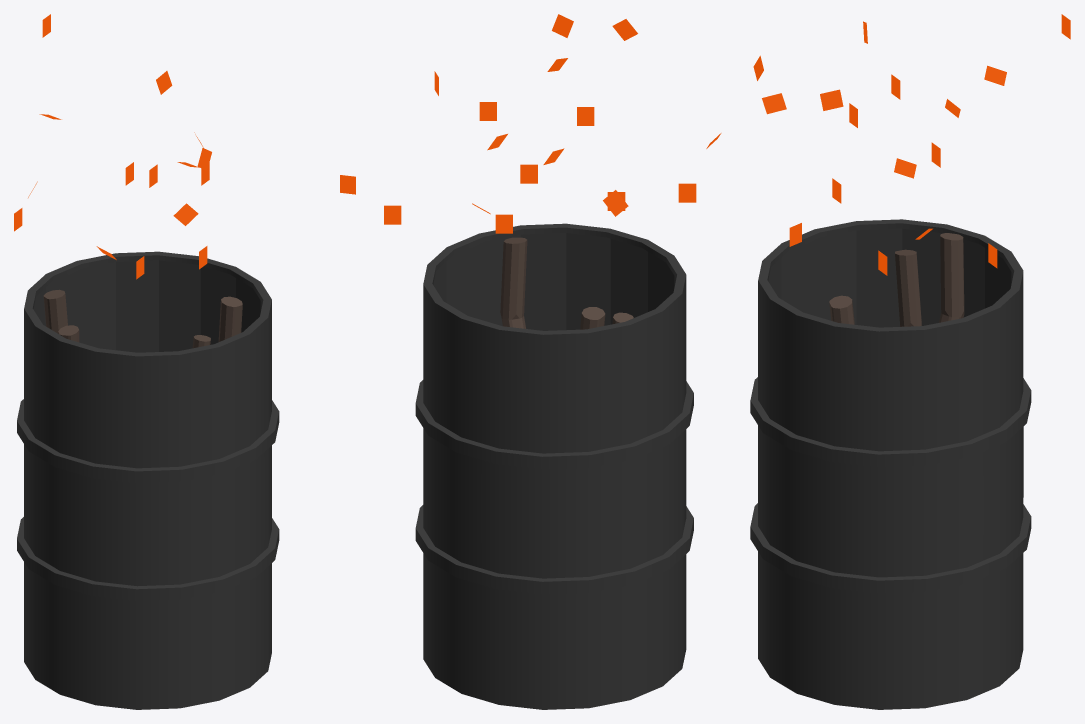
Rendered from 11 Fire_Pit_1.FBX.
3 renders of one model, left to right at view 1: azimuth 30°, elevation 25°; view 2: azimuth 150°, elevation 25°; view 3: azimuth 270°, elevation 25°, orthographic. The views are drawn at different scales.
Visible parts, largest first — view 1: Fire_Pit_1; view 2: Fire_Pit_1; view 3: Fire_Pit_1.
Boxes of the visible parts, x1=… form: Fire_Pit_1: x1=14, y1=14, x2=355, y2=709; Fire_Pit_1: x1=384, y1=14, x2=721, y2=709; Fire_Pit_1: x1=750, y1=14, x2=1070, y2=709.
Size of the model in its own units: 193 by 372 by 170.
